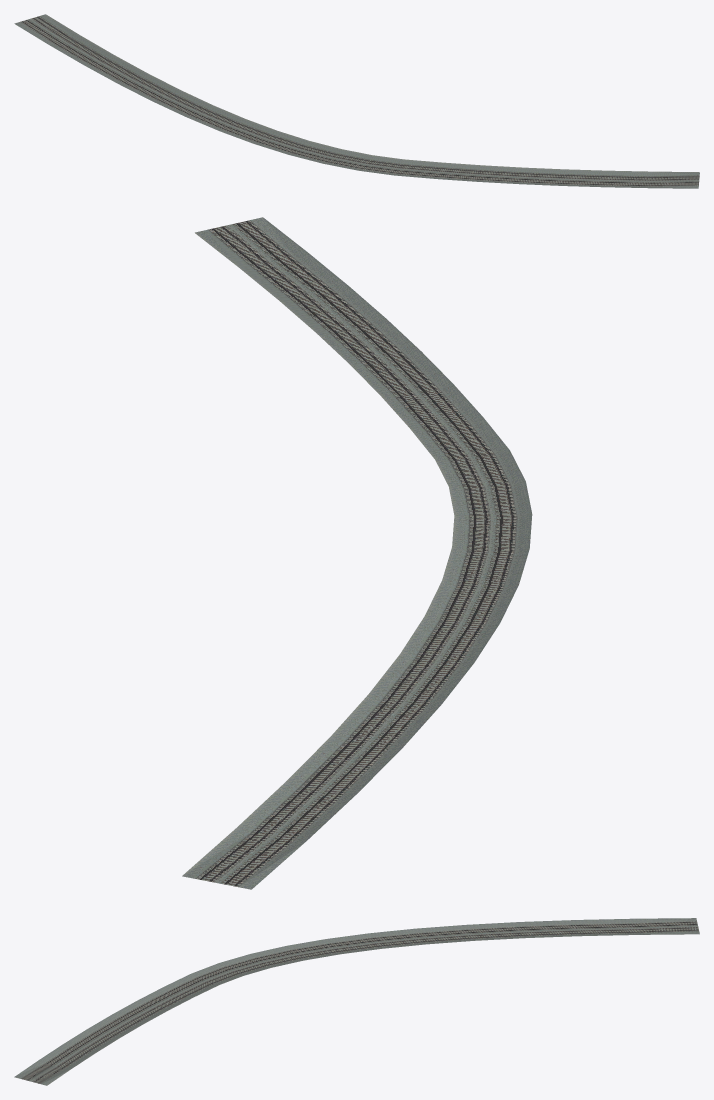
Rendered from lod_des_line12.obj.
3 views of the same model, one above another, from view 1: azimuth 30°, elevation 25°; view 2: azimuth 150°, elevation 25°; view 3: azimuth 270°, elevation 25° (orthographic). The views are drawn at different scales.
Visible parts, largest first — view 1: lod_des_line12; view 2: lod_des_line12; view 3: lod_des_line12.
Part boxes in pixels (x1,y1,x2,y2): lod_des_line12: [14, 14, 699, 188]; lod_des_line12: [182, 217, 532, 889]; lod_des_line12: [14, 918, 699, 1085].
Bounding box in the file's own units: 118 × 1.68 × 198.
1 material, 1 textured.
